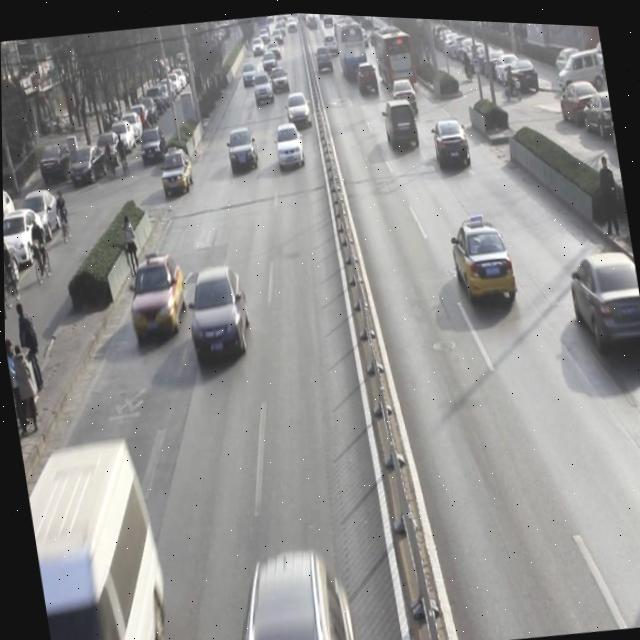car: (566, 241, 640, 357), (445, 206, 519, 309), (184, 264, 255, 365), (122, 252, 191, 339), (429, 111, 474, 174), (381, 93, 421, 150), (157, 140, 194, 196), (223, 122, 262, 174), (271, 116, 307, 170), (389, 67, 420, 112), (283, 86, 314, 126), (355, 56, 379, 93), (252, 69, 274, 105), (312, 39, 334, 72), (238, 59, 259, 86), (270, 64, 290, 90)
van: (371, 22, 416, 88)
